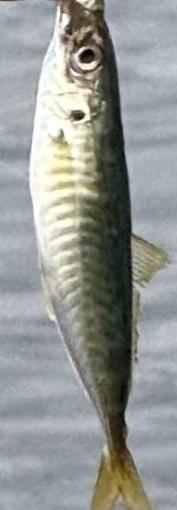fish: (29, 0, 170, 509)
